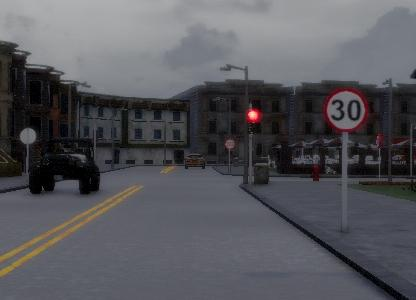Speed_30: (323, 88, 369, 134)
